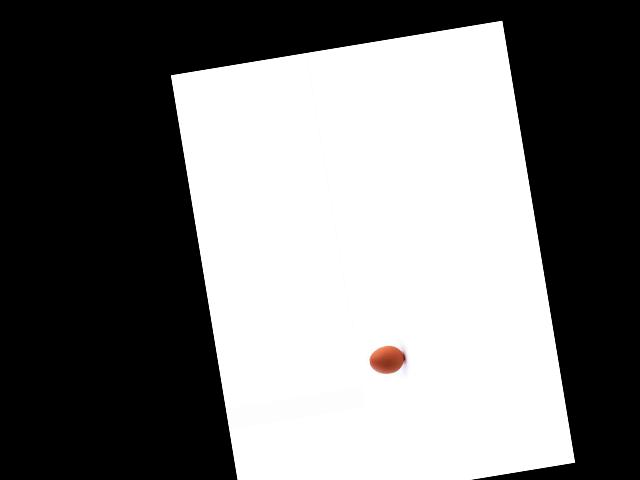egg: (367, 344, 406, 377)
